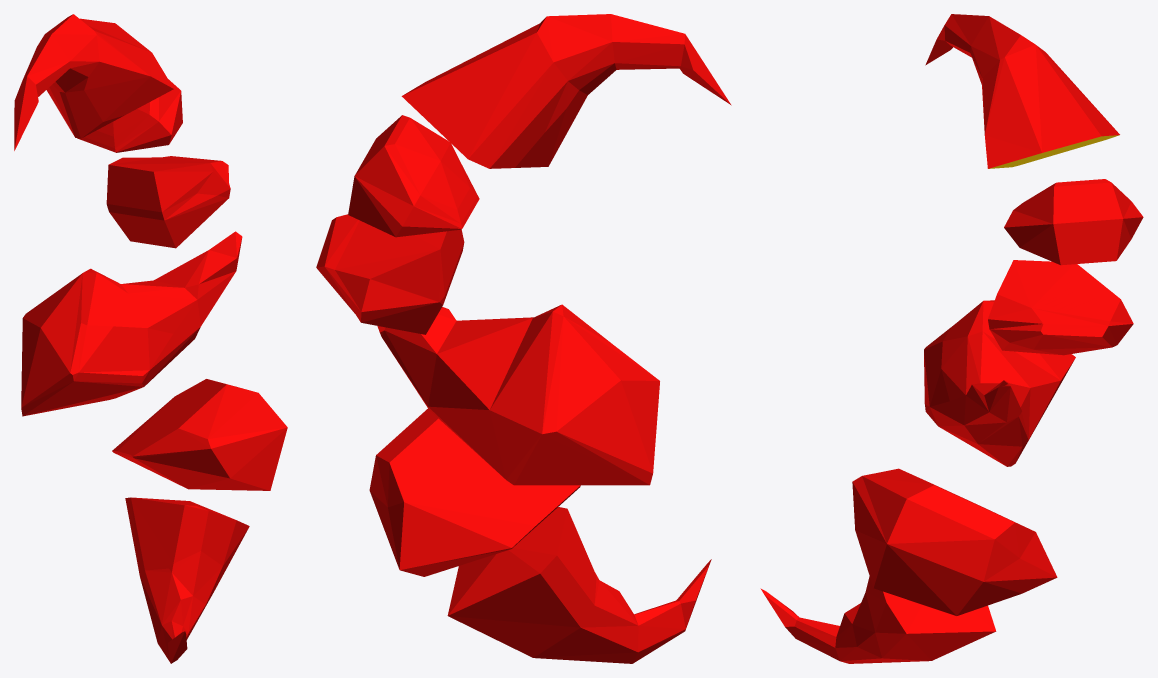
The model's file is mdlSuperFireHorn.fbx.
3 views of the same model, side by side, from view 1: azimuth 30°, elevation 25°; view 2: azimuth 150°, elevation 25°; view 3: azimuth 270°, elevation 25° (orthographic). The views are drawn at different scales.
Visible parts, largest first — view 1: mdlSuperFireHorn; view 2: mdlSuperFireHorn; view 3: mdlSuperFireHorn.
Part boxes in pixels (<box>): mdlSuperFireHorn: <box>14,14,287,663</box>; mdlSuperFireHorn: <box>316,14,731,663</box>; mdlSuperFireHorn: <box>760,14,1143,663</box>.
Size of the model in its own units: 0.7503 by 1.56 by 0.8701.
